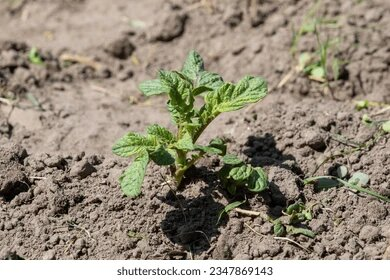potato_plant: (113, 47, 271, 202)
